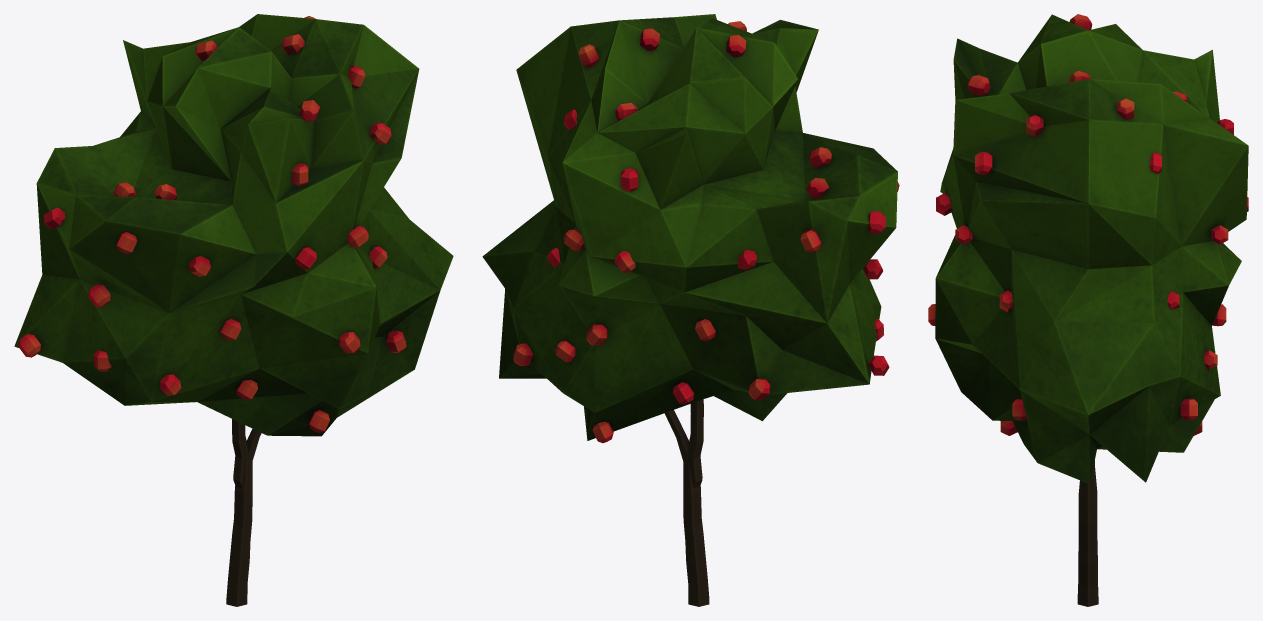
The model's file is appletree_bloom.glb.
The picture shows the model from 3 angles, left to right: view 1: azimuth 30°, elevation 25°; view 2: azimuth 150°, elevation 25°; view 3: azimuth 270°, elevation 25°; orthographic projection.
Visible parts, largest first — view 1: node-0; view 2: node-0; view 3: node-0.
Boxes of the visible parts, x1,y1,x2,y2 form: node-0: (14, 14, 453, 606); node-0: (482, 14, 899, 606); node-0: (928, 14, 1248, 606).
Bounding box in the file's own units: 7.28 × 9.51 × 4.83.
Materials: 1 (1 with a texture image).
